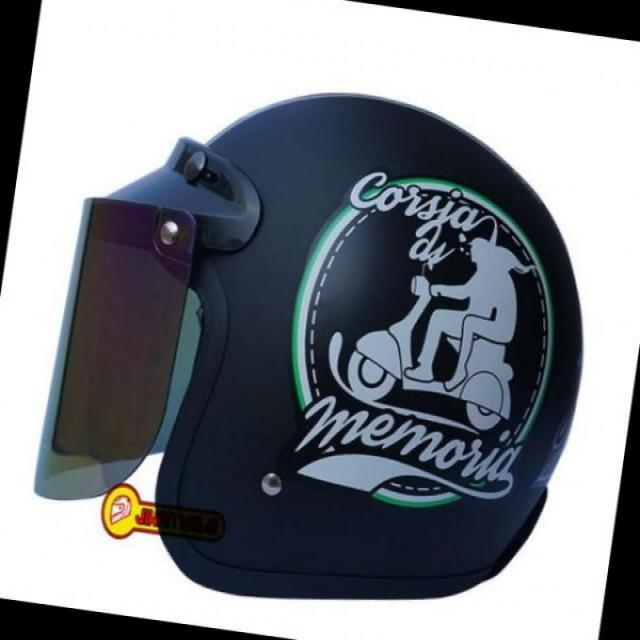Helmet: (60, 110, 566, 606)
